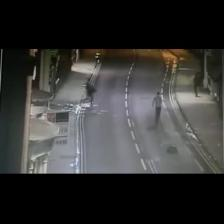person: (152, 92, 162, 125), (86, 83, 95, 106), (194, 73, 201, 97)
